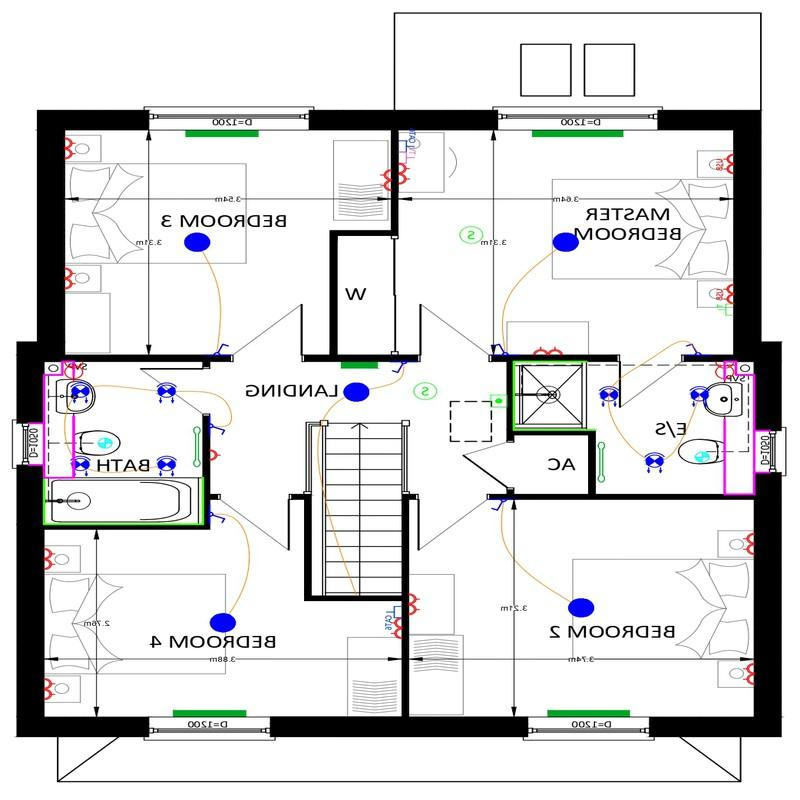Cat 6 Data Socket: (379, 603, 403, 621), (399, 136, 419, 155)
Ceiling Mounted Continuous Extract Fan With Boost Mode Activated By Light Switch: (690, 445, 715, 468), (92, 434, 120, 452)
Co-Ax TV Socket: (396, 153, 424, 164)
Double Socket: (63, 263, 80, 300), (62, 133, 82, 164), (42, 673, 62, 704), (740, 526, 754, 564), (376, 166, 391, 199), (42, 546, 57, 577), (395, 164, 417, 185), (741, 659, 754, 692), (408, 590, 422, 619), (531, 344, 563, 356), (387, 619, 405, 640)
Full Height Tiling: (40, 476, 205, 527), (510, 355, 591, 434)
Light Switch: (681, 335, 707, 356), (209, 416, 226, 442), (209, 505, 226, 530), (489, 497, 514, 514), (391, 359, 411, 380), (490, 340, 517, 355), (210, 340, 231, 354)
Low Energy Downlighter: (65, 383, 100, 413), (686, 381, 713, 418), (65, 452, 97, 480), (637, 448, 669, 476), (596, 384, 627, 410), (152, 378, 180, 405), (155, 452, 179, 478)
Low Energy Pendant Light: (558, 593, 604, 619), (202, 607, 243, 635), (176, 230, 220, 254), (340, 377, 371, 407), (551, 230, 583, 257)
Mains Wired Smoke Detector: (455, 222, 487, 248), (412, 379, 442, 406)
Programmable Room Thermostat: (488, 391, 509, 412)
Radiator: (165, 704, 253, 721), (544, 704, 633, 720), (174, 127, 273, 141), (527, 127, 627, 140), (336, 360, 384, 375)
Shaver Socket: (63, 359, 95, 383), (710, 360, 740, 385)
Single Socket: (209, 445, 226, 467)
Telephone Socket: (717, 302, 733, 319)
USB Double Socket: (713, 281, 734, 304), (715, 151, 734, 176)
